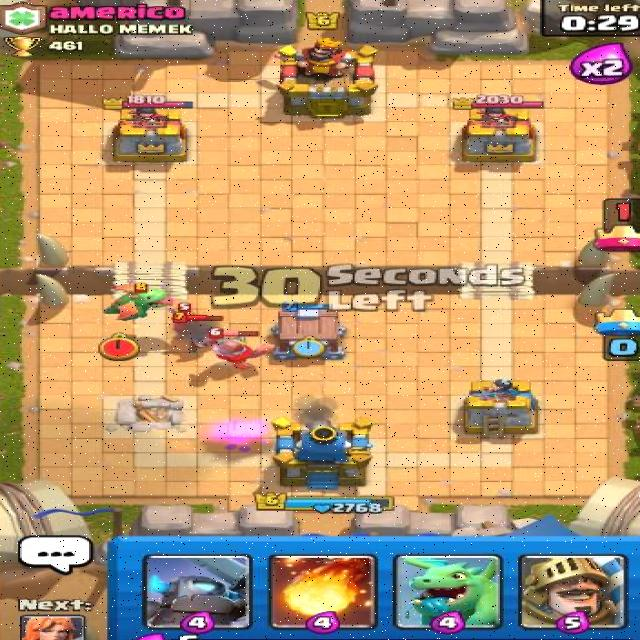Enemy-BabyDragon: (98, 279, 171, 322)
Enemy-Knight: (200, 324, 275, 372)
Enemy-Musketeer: (171, 311, 231, 354)
Enemy-Valkyrie: (165, 300, 213, 340)
Player-GoblinCage: (264, 301, 358, 362)
